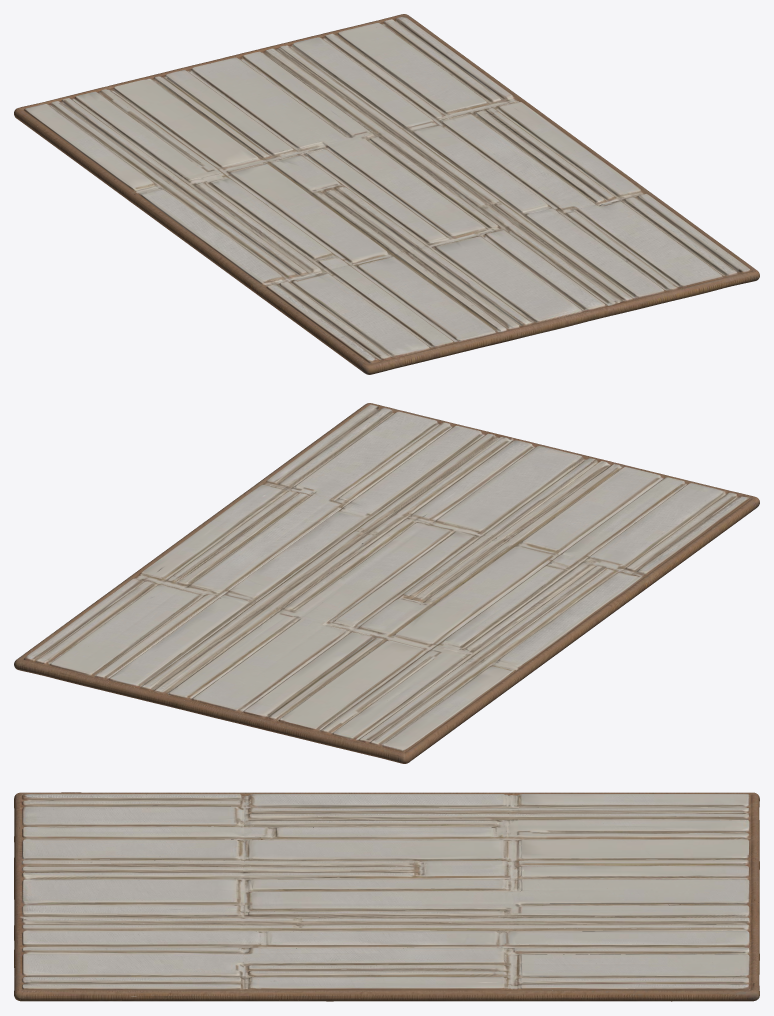
File: kids_rug.glb
3 renders of one model, top to bottom at view 1: azimuth 30°, elevation 25°; view 2: azimuth 150°, elevation 25°; view 3: azimuth 270°, elevation 25°, orthographic. The views are drawn at different scales.
Visible parts, largest first — view 1: node_0; view 2: node_0; view 3: node_0.
Boxes of the visible parts, left/top/right/bottom form: node_0: left=14, top=14, right=759, bottom=374; node_0: left=14, top=403, right=759, bottom=763; node_0: left=14, top=792, right=759, bottom=1001.
Bounding box in the file's own units: 0.6524 × 0.0171 × 1.02.
1 material, 1 textured.
